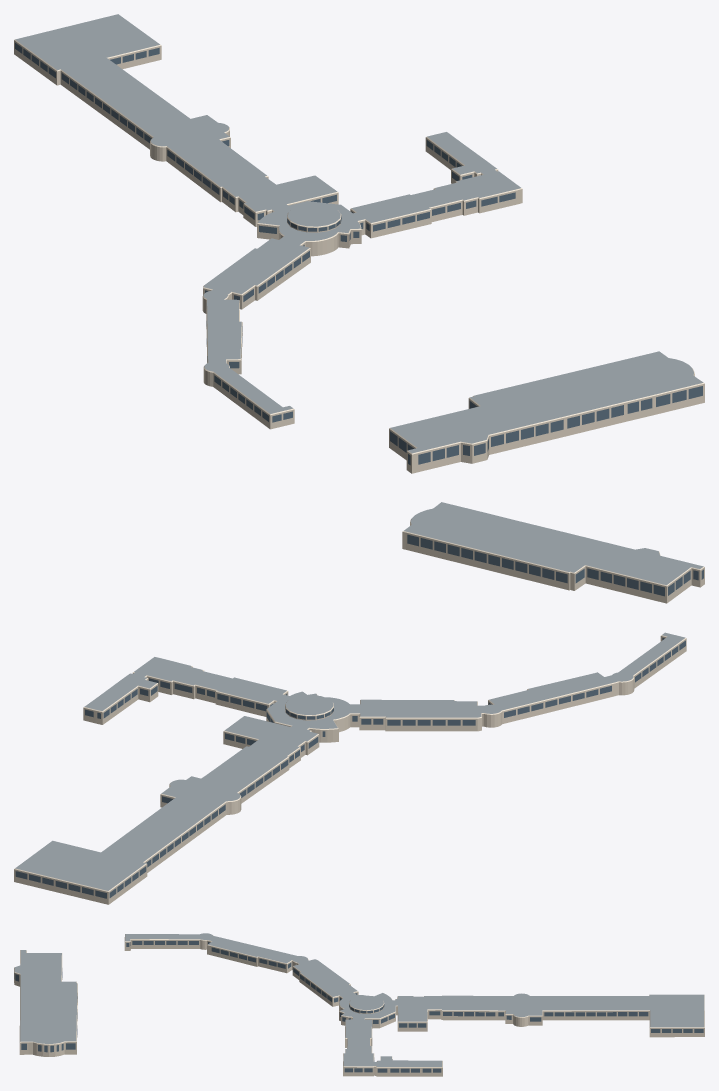
Rendered from clt-concourses-d-e.glb.
The picture shows the model from 3 angles, top to bottom: view 1: azimuth 30°, elevation 25°; view 2: azimuth 150°, elevation 25°; view 3: azimuth 270°, elevation 25°; orthographic projection. The views are drawn at different scales.
Parts seen in each view (by area): view 1: Charlotte Douglas International Airport Concourses D and E; view 2: Charlotte Douglas International Airport Concourses D and E; view 3: Charlotte Douglas International Airport Concourses D and E.
Part boxes in pixels (bbox=[...]): Charlotte Douglas International Airport Concourses D and E: bbox=[14, 14, 704, 473]; Charlotte Douglas International Airport Concourses D and E: bbox=[14, 502, 704, 904]; Charlotte Douglas International Airport Concourses D and E: bbox=[14, 933, 704, 1076].
Bounding box in the file's own units: 268 × 12.5 × 584.
